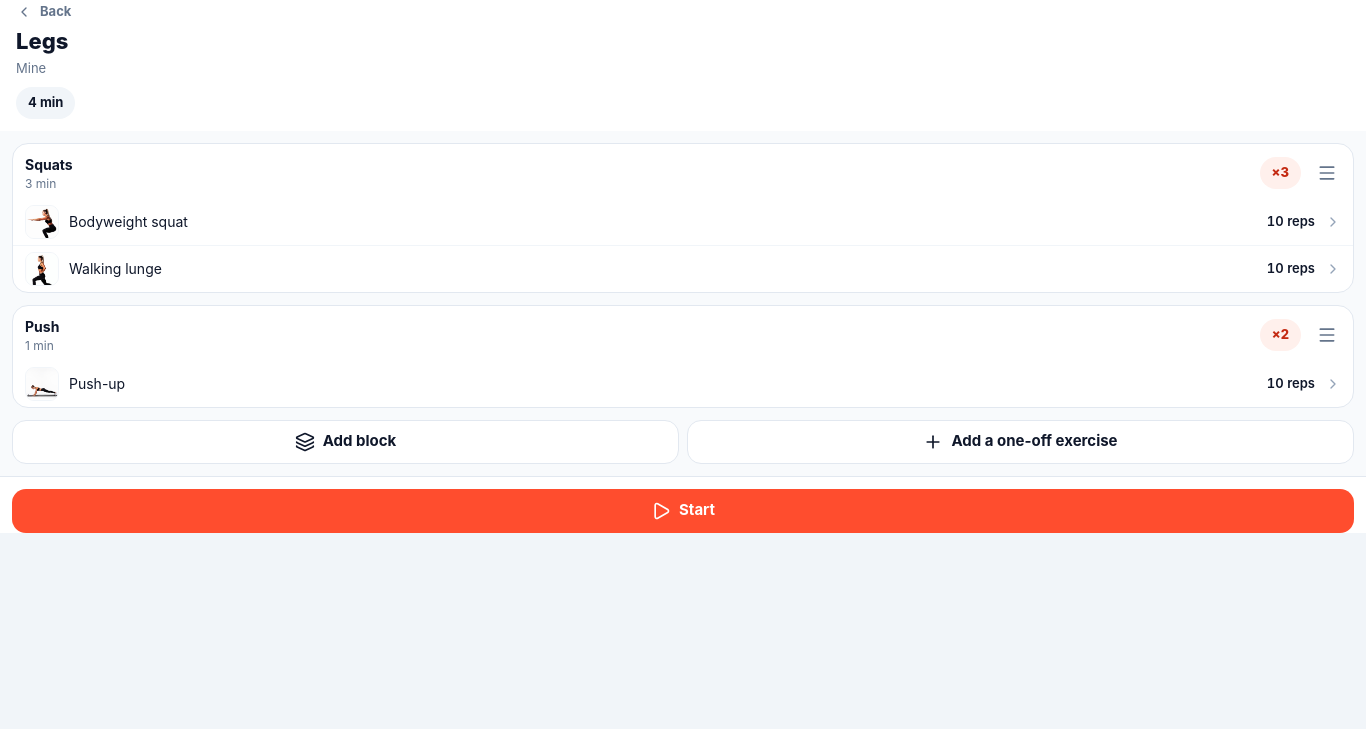
Test: the workout page reads plain; a tap on a block opens it for editing (Nick, 1 Nov 2026) › only the tapped block opens
The width and height of the screenshot is (1366, 729).
What coordinates should you click on to do the following:
click the button with aria-label "Edit Push"
I would click on:
 (42, 335)
Its box is left=25, top=318, right=59, bottom=352.
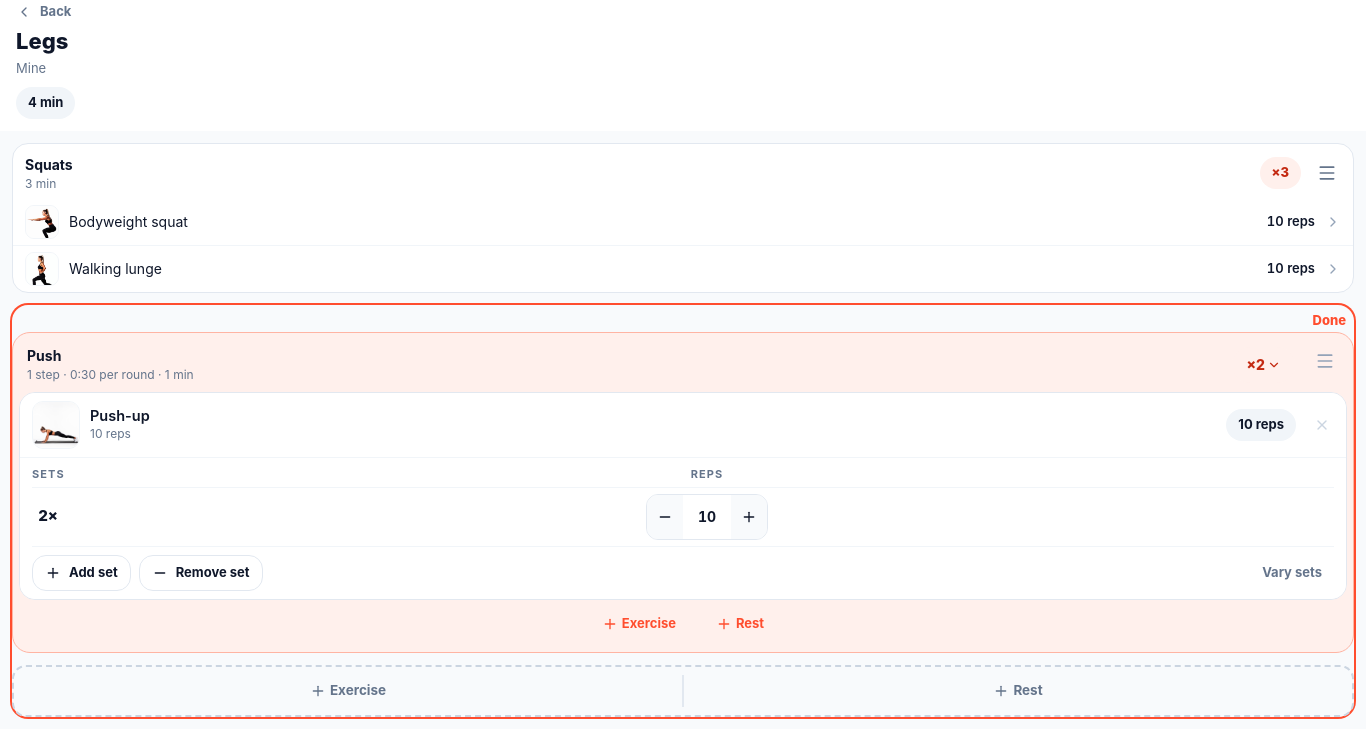
Expected: the button with aria-label "Edit Squats" is shown, left=25, top=156, right=73, bottom=190
Now the number of buttons with test id "block-done" is 1, box left=1308, top=308, right=1350, bottom=332
